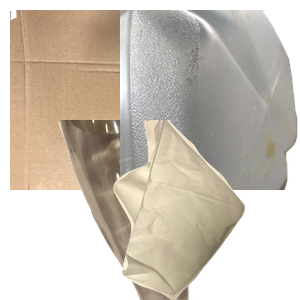cardboard: (10, 10, 250, 190)
glass: (56, 120, 241, 300)
plastic: (120, 10, 300, 190)
trash: (111, 120, 300, 300)
